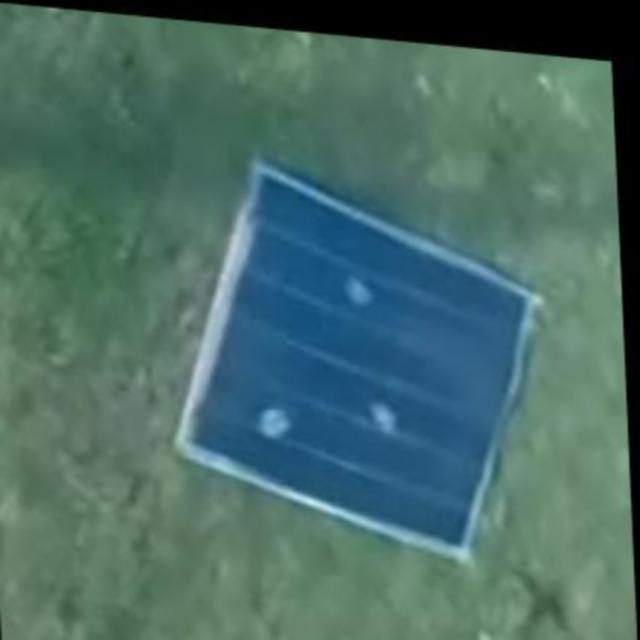soiled: (180, 164, 542, 560)
